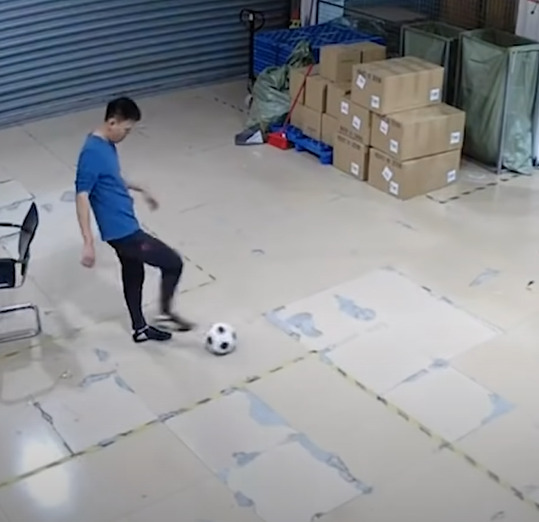person: (75, 96, 193, 344)
